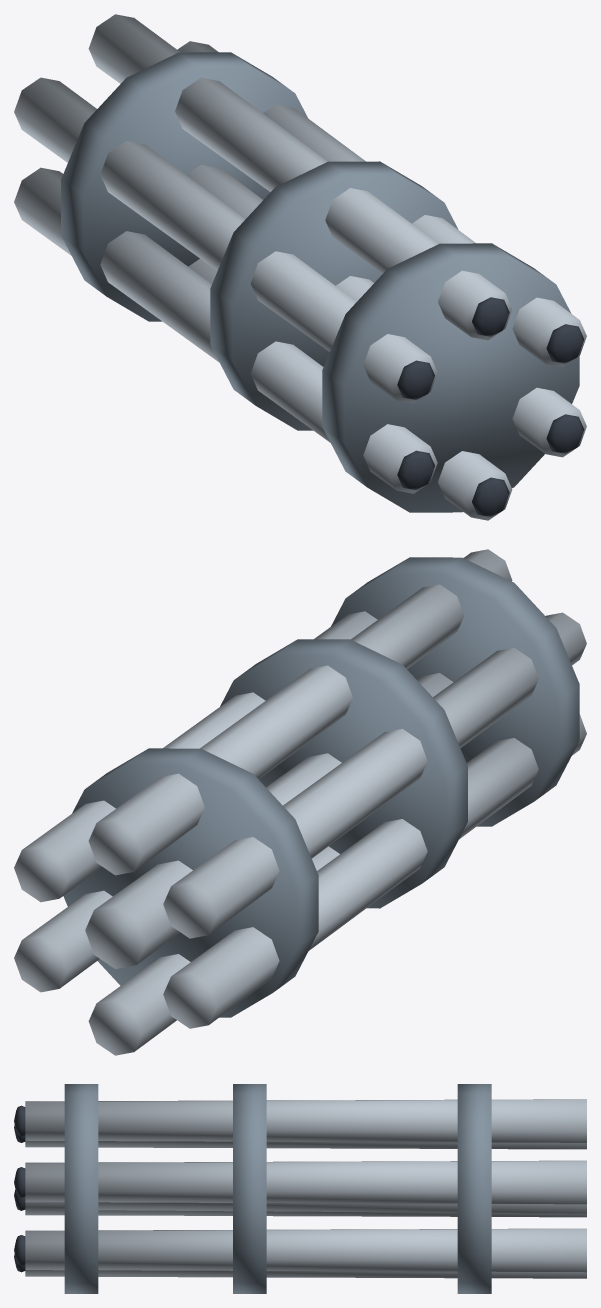
Rendered from ryeah_vulcan_barrels.glb.
3 renders of one model, top to bottom at view 1: azimuth 30°, elevation 25°; view 2: azimuth 150°, elevation 25°; view 3: azimuth 270°, elevation 25°, orthographic. The views are drawn at different scales.
Parts seen in each view (by area): view 1: Vulcan_Clamps, Vulcan_Barrels, Vulcan_Bores; view 2: Vulcan_Barrels, Vulcan_Clamps; view 3: Vulcan_Barrels, Vulcan_Clamps, Vulcan_Bores.
Boxes of the visible parts, x1,y1,x2,y2 form: Vulcan_Clamps: (61,52,579,512); Vulcan_Barrels: (14,14,586,520); Vulcan_Bores: (397,297,584,516); Vulcan_Barrels: (14,549,586,1055); Vulcan_Clamps: (63,557,579,1017); Vulcan_Barrels: (25,1099,586,1278); Vulcan_Clamps: (64,1084,491,1293); Vulcan_Bores: (14,1105,25,1272).
Size of the model in its own units: 0.546 by 0.56 by 1.53.
